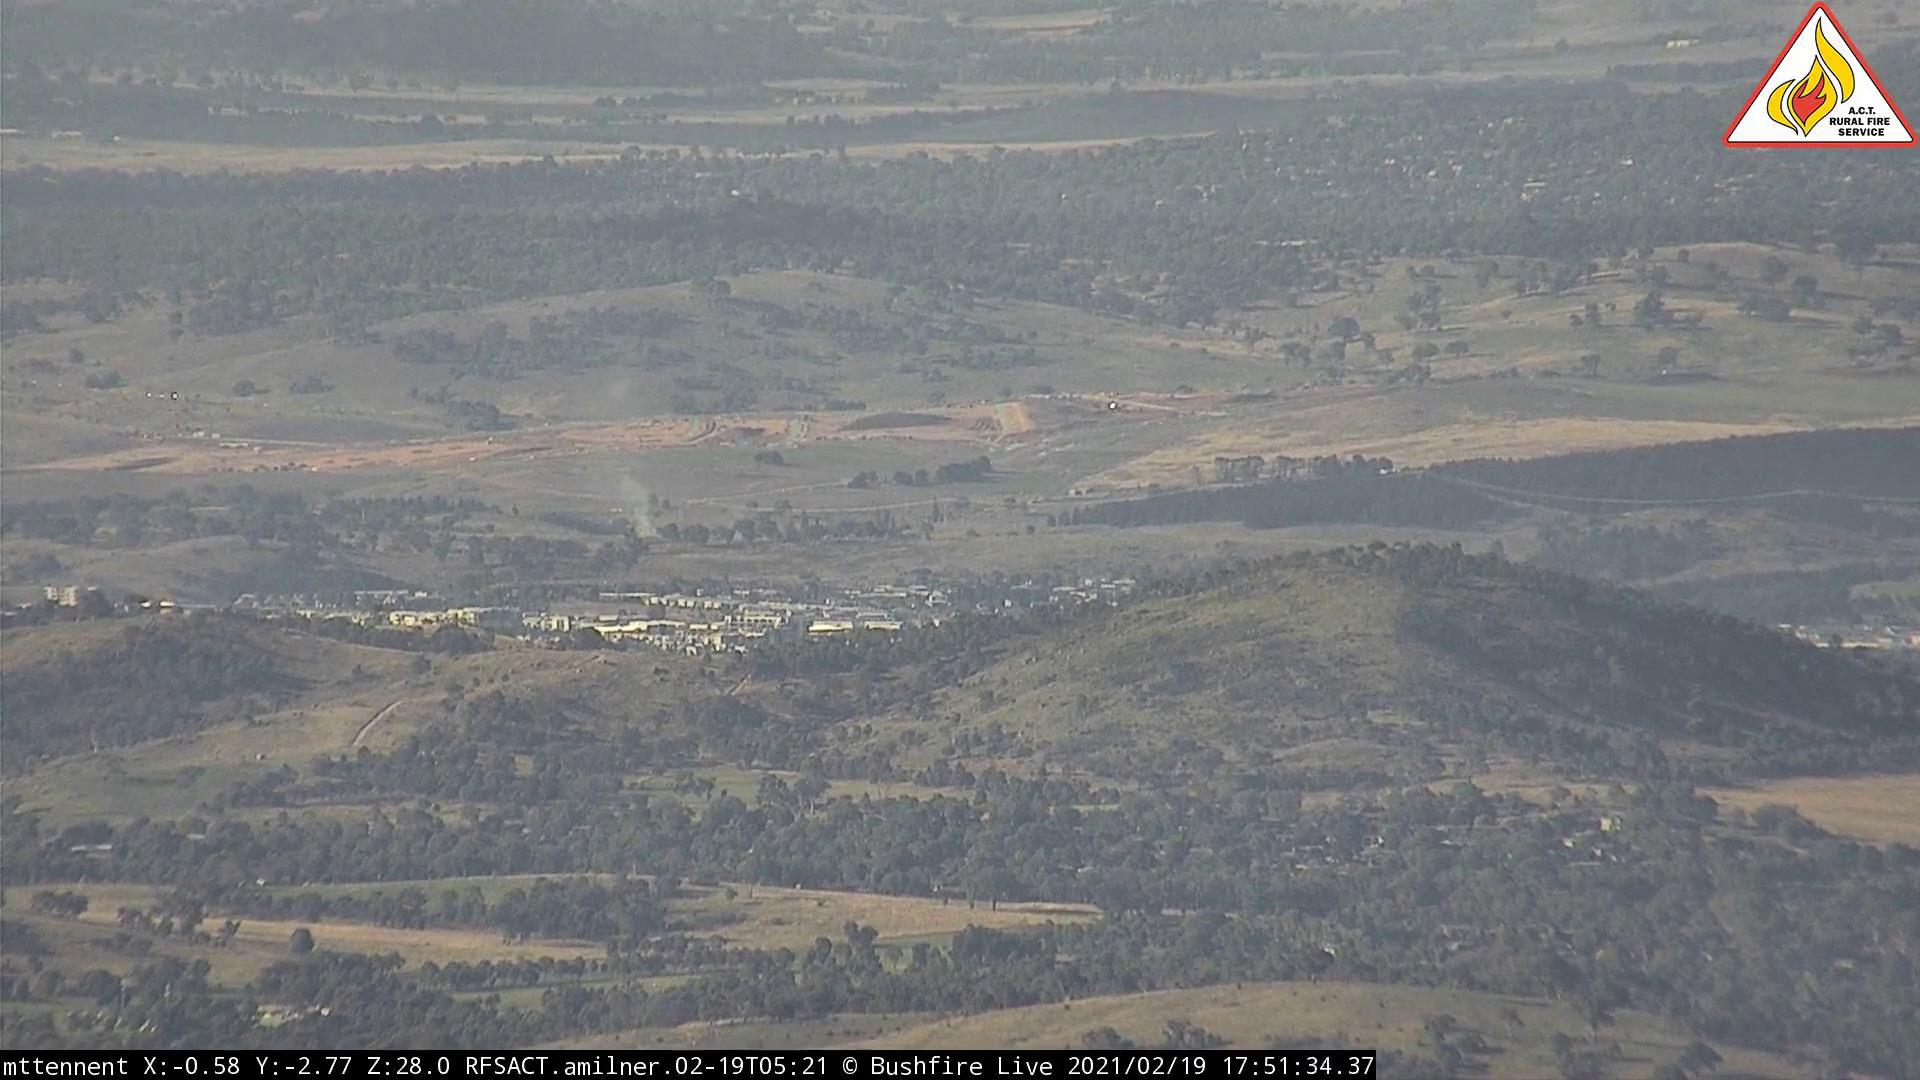Smoke: (618, 462, 667, 547)
